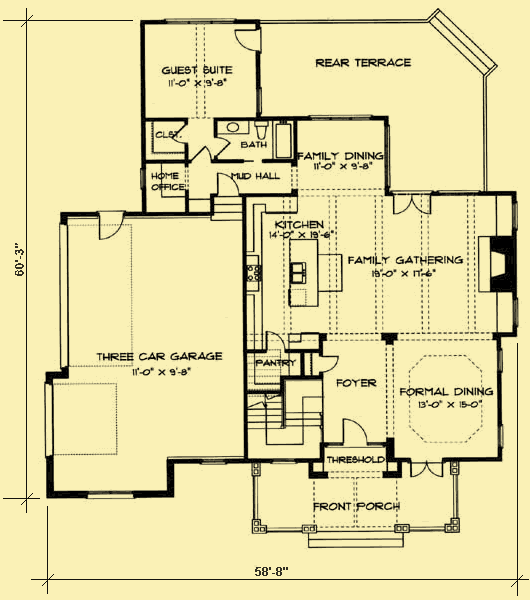door: (339, 416, 370, 448), (391, 194, 432, 218), (99, 211, 127, 243), (232, 27, 263, 54), (408, 459, 447, 480), (212, 172, 241, 196), (316, 353, 342, 373), (167, 123, 186, 149), (212, 134, 230, 159), (189, 146, 211, 162)
kitchen_bar: (285, 237, 321, 308)
large_sink: (254, 119, 270, 144)
small_sink: (214, 121, 253, 135)
stairs: (246, 392, 322, 460)
tub: (272, 118, 294, 162)
window: (87, 490, 137, 501)
